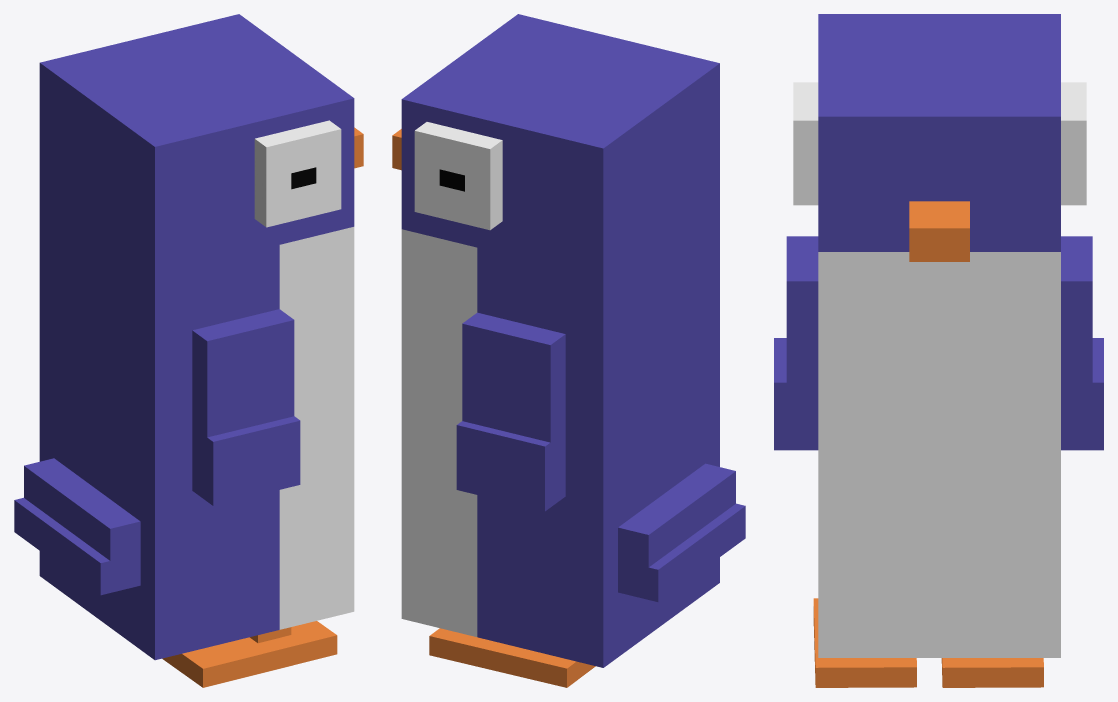
The model's file is penguin.glb.
3 views of the same model, side by side, from view 1: azimuth 30°, elevation 25°; view 2: azimuth 150°, elevation 25°; view 3: azimuth 270°, elevation 25° (orthographic). The views are drawn at different scales.
Parts seen in each view (by area): view 1: Cuerpo azul, Cuerpo blanco, Ojos blanco, Pata 1; view 2: Cuerpo azul, Cuerpo blanco, Ojos blanco, Pata 2; view 3: Cuerpo blanco, Cuerpo azul, Ojos blanco, Pico, Pata 1, Pata 2.
Boxes of the visible parts, x1,y1,x2,y2 form: Cuerpo azul: [14, 14, 354, 660]; Cuerpo blanco: [279, 227, 354, 629]; Ojos blanco: [254, 120, 341, 227]; Pata 1: [162, 621, 337, 687]; Cuerpo azul: [401, 14, 745, 667]; Cuerpo blanco: [401, 229, 477, 636]; Ojos blanco: [414, 122, 502, 230]; Pata 2: [429, 628, 595, 687]; Cuerpo blanco: [818, 252, 1060, 657]; Cuerpo azul: [774, 14, 1103, 450]; Ojos blanco: [793, 82, 1086, 205]; Pico: [909, 201, 969, 261]; Pata 1: [813, 598, 916, 687]; Pata 2: [941, 658, 1043, 687].
Size of the model in its own units: 2.93 by 5.28 by 2.72.
